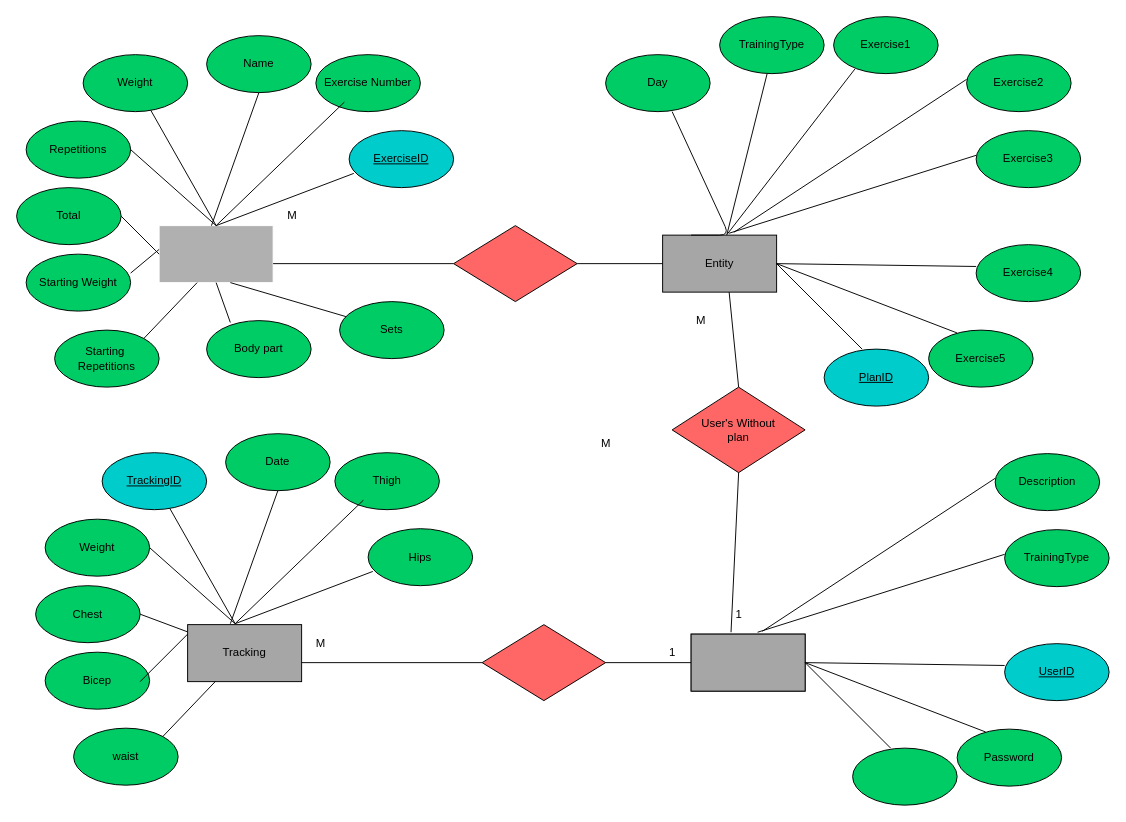
The diagram is 1126 pixels wide and 822 high, and some of its shapes have lost their labels. The shapes that lost their labels are listed below. From the top down, each one's centre as x and y in pixels, then its label:
At pixel 215 254: "Exercise".
At pixel 515 263: "Excersie in a plan".
At pixel 543 662: "User's Tracking details".
At pixel 747 662: "User".
At pixel 904 776: "Username".
